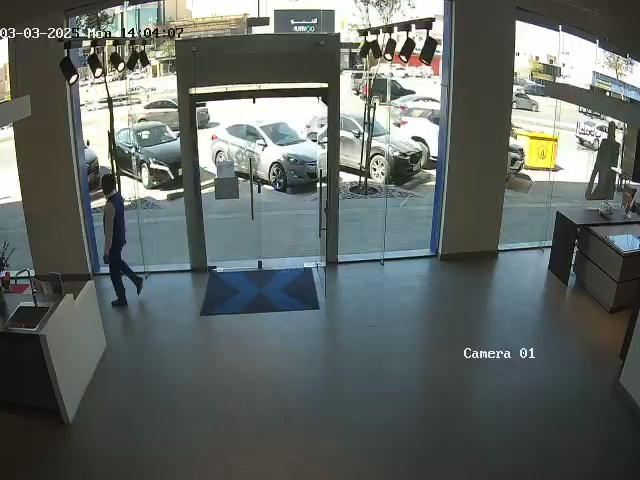employee: (100, 173, 144, 307)
